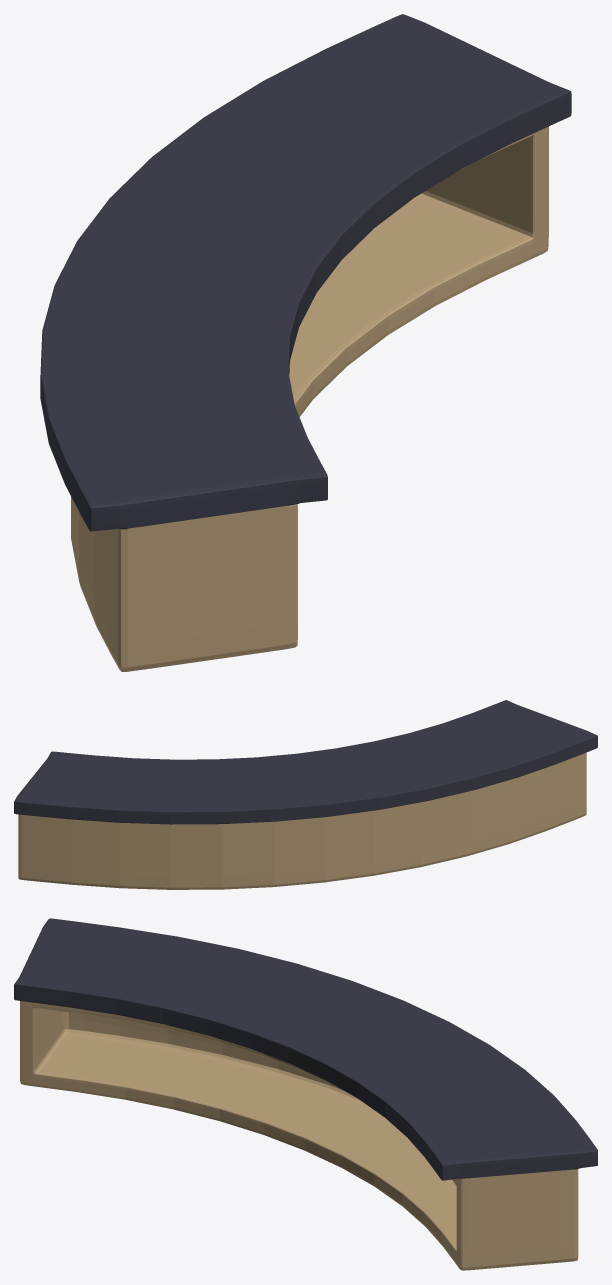
File: KitchenCounter.glb
3 renders of one model, top to bottom at view 1: azimuth 30°, elevation 25°; view 2: azimuth 150°, elevation 25°; view 3: azimuth 270°, elevation 25°, orthographic. The views are drawn at different scales.
Visible parts, largest first — view 1: Counter; view 2: Counter; view 3: Counter.
Boxes of the visible parts, bbox=[...] form: Counter: bbox=[40, 14, 571, 671]; Counter: bbox=[14, 700, 597, 889]; Counter: bbox=[14, 918, 597, 1270].
Size of the model in its own units: 7.23 by 1.5 by 7.23.
